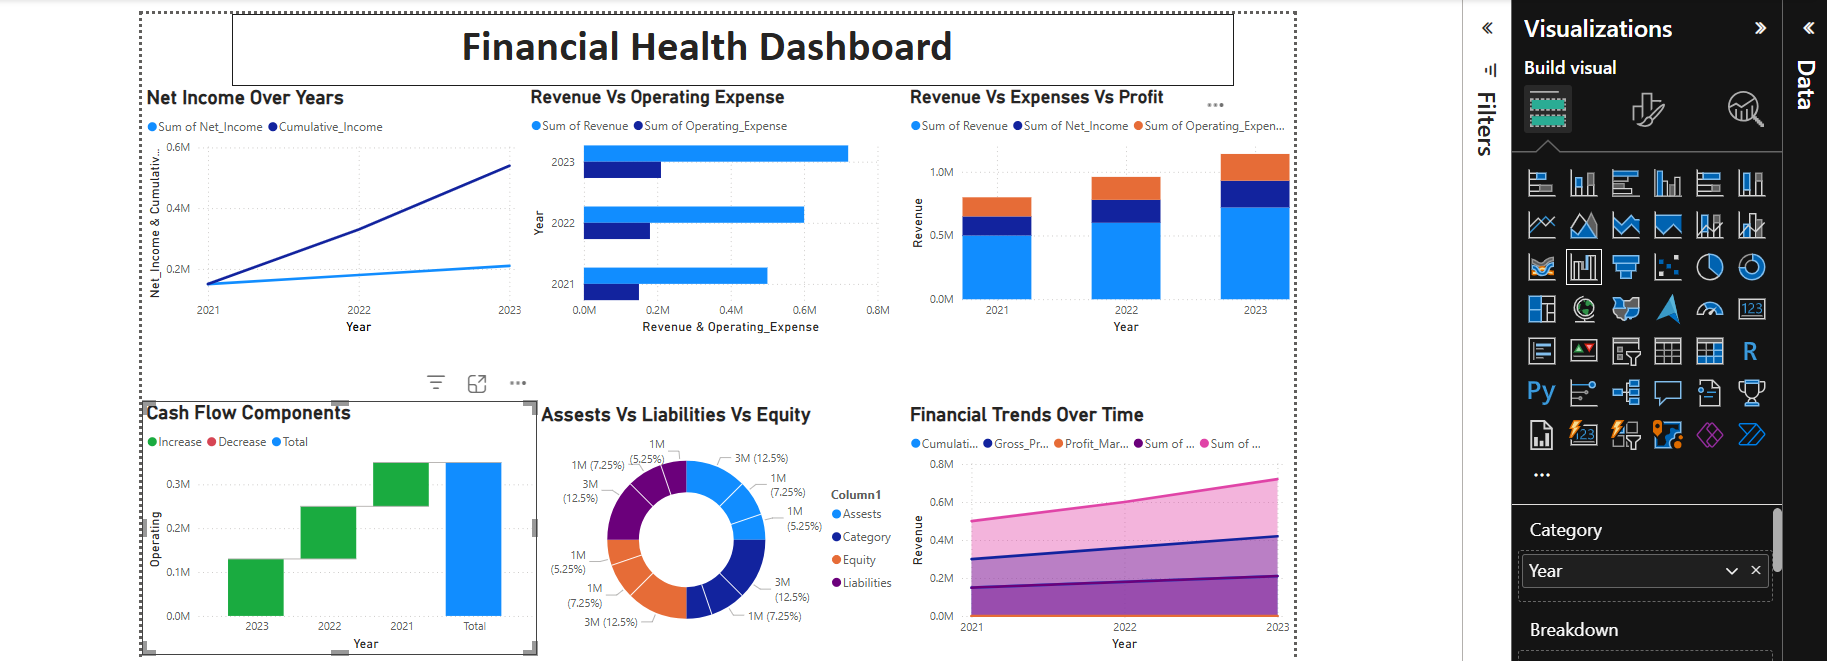

The dashboard page shown, as its layout file describes it:
{"tool":"powerbi","page":{"name":"Page 1","canvas":[1280,720],"ordinal":0},"visuals":[{"type":"lineChart","title":"Net Income  Over Years","fields":{"Category":["YearTable.Year"],"Y":["Sum(Income_Statement.Net_Income)","Income_Statement.Cumulative_Income"]},"box":[0,79.6,425.9,279.6],"z":0},{"type":"clusteredBarChart","title":"Revenue Vs Operating Expense","fields":{"Category":["Income_Statement.Year"],"Y":["Sum(Income_Statement.Revenue)","Sum(Income_Statement.Operating_Expense)"]},"box":[425.9,79.6,409.3,279.6],"z":1000},{"type":"waterfallChart","title":"Cash Flow Components","fields":{"Category":["Cash_Flow.Year"],"Y":["Sum(Cash_Flow.Operating)"]},"box":[0,429.6,438.9,281.5],"z":2000},{"type":"donutChart","title":"Assests Vs Liabilities Vs Equity","fields":{"Category":["Asset Type.Column1","Asset Type.Column2"],"Y":["Sum(Balance_Sheet.Assets)","Sum(Balance_Sheet.Equity)","Sum(Balance_Sheet.Liabilities)"]},"box":[438.9,431.5,409.3,279.6],"z":3000},{"type":"columnChart","title":"Revenue Vs Expenses Vs Profit","fields":{"Category":["Income_Statement.Year"],"Y":["Sum(Income_Statement.Revenue)","Sum(Income_Statement.Net_Income)","Sum(Income_Statement.Operating_Expense)"]},"box":[848.1,79.6,431.5,279.6],"z":4000},{"type":"areaChart","title":"Financial Trends Over Time","fields":{"Category":["Income_Statement.Year"],"Y":["Income_Statement.Cumulative_Income","Income_Statement.Gross_Profit","Income_Statement.Profit_Margin","Sum(Income_Statement.Net_Income)","Sum(Income_Statement.Revenue)"]},"box":[848,431,431,280],"z":5000},{"type":"textbox","box":[100,0,1113,79.6],"z":5001}]}

Visuals, with their boxes on the page's 1280x720 design canvas (x1, y1, x2, y2). These are canvas units, not pixel positions in the 1827x661 screenshot, which may show the page scaled, cropped or inside an application window:
"Net Income  Over Years" lineChart: 0:80:426:359
"Revenue Vs Operating Expense" clusteredBarChart: 426:80:835:359
"Cash Flow Components" waterfallChart: 0:430:439:711
"Assests Vs Liabilities Vs Equity" donutChart: 439:432:848:711
"Revenue Vs Expenses Vs Profit" columnChart: 848:80:1280:359
"Financial Trends Over Time" areaChart: 848:431:1279:711
textbox: 100:0:1213:80
